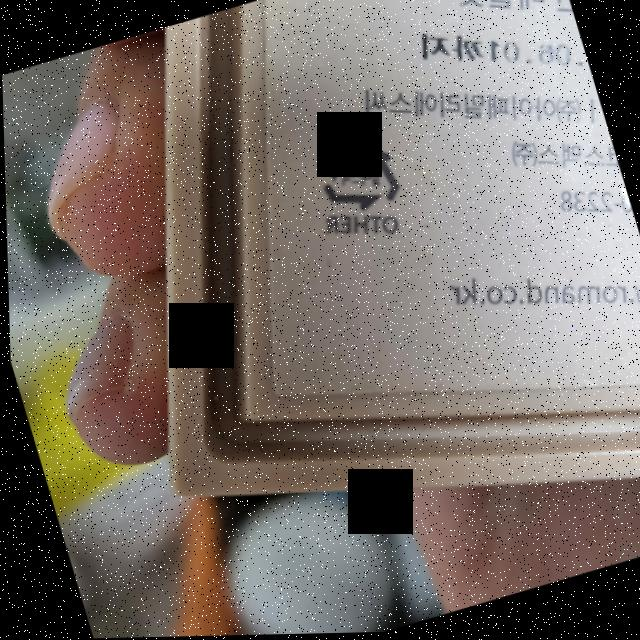Plastic: (305, 120, 408, 226)
